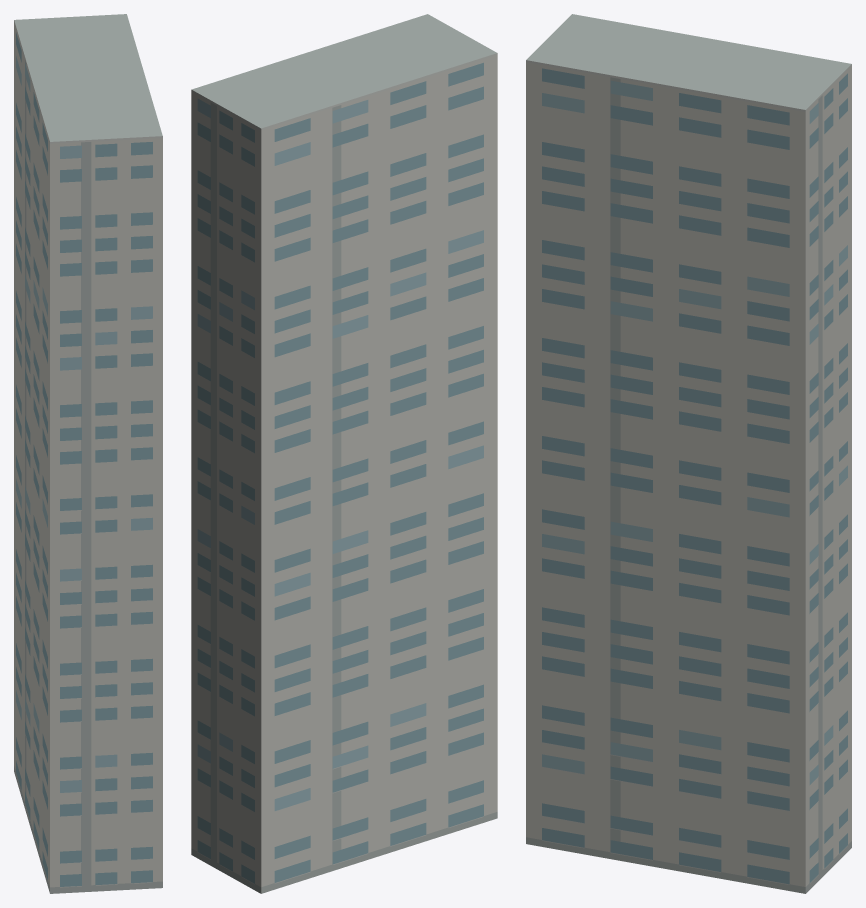
Rendered from residential-81cda533-3007-4f67-abf8-51c2cd710dc8.glb.
3 views of the same model, side by side, from view 1: azimuth 30°, elevation 25°; view 2: azimuth 150°, elevation 25°; view 3: azimuth 270°, elevation 25° (orthographic). The views are drawn at different scales.
Parts seen in each view (by area): view 1: residential-81cda533-3007-4f67-abf8-51c2cd710dc8.tmp; view 2: residential-81cda533-3007-4f67-abf8-51c2cd710dc8.tmp; view 3: residential-81cda533-3007-4f67-abf8-51c2cd710dc8.tmp.
Part boxes in pixels (x1,y1,x2,y2): residential-81cda533-3007-4f67-abf8-51c2cd710dc8.tmp: (14,14,162,893); residential-81cda533-3007-4f67-abf8-51c2cd710dc8.tmp: (191,14,497,893); residential-81cda533-3007-4f67-abf8-51c2cd710dc8.tmp: (526,14,851,893).
Bounding box in the file's own units: 24.17 × 92 × 34.65.
